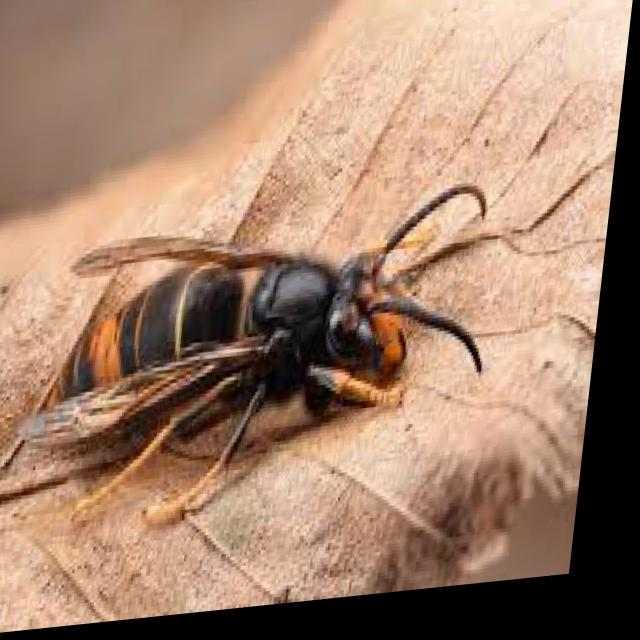Vespa Crabro: (21, 175, 524, 535)
